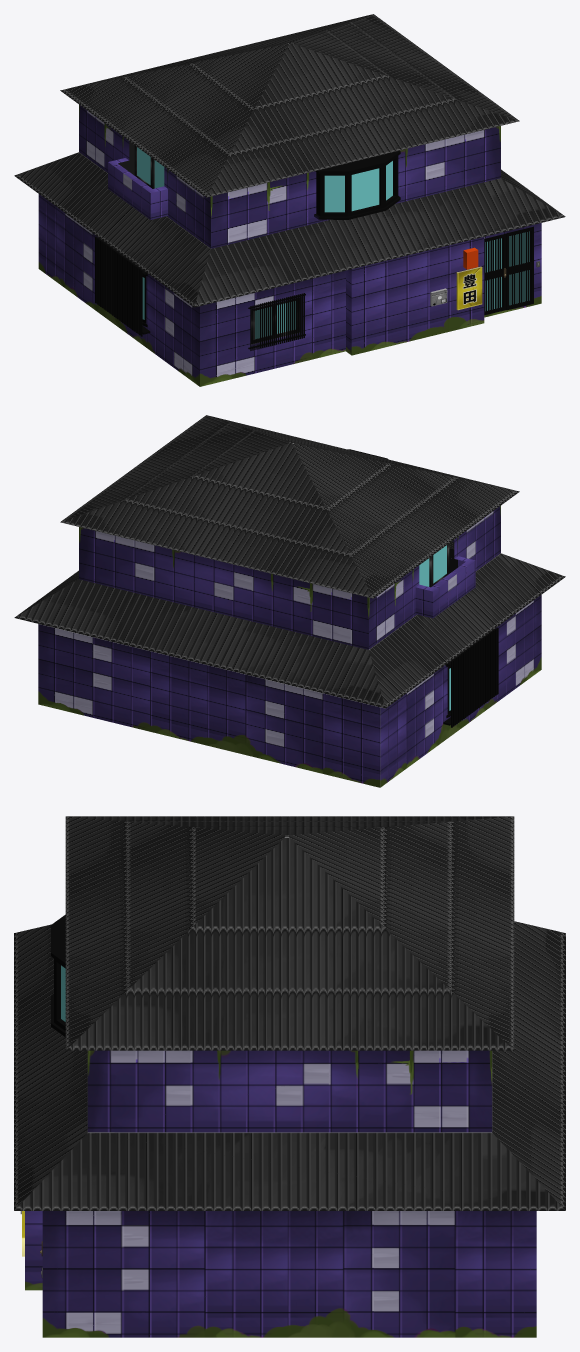
File: House_Toyota.fbx
The picture shows the model from 3 angles, top to bottom: view 1: azimuth 30°, elevation 25°; view 2: azimuth 150°, elevation 25°; view 3: azimuth 270°, elevation 25°; orthographic projection. The views are drawn at different scales.
Parts seen in each view (by area): view 1: Cube.070; view 2: Cube.070; view 3: Cube.070.
Part boxes in pixels (x1,y1,x2,y2): Cube.070: (14,14,565,386); Cube.070: (14,415,565,787); Cube.070: (14,816,565,1337).
Size of the model in its own units: 1371 by 860 by 1151.
